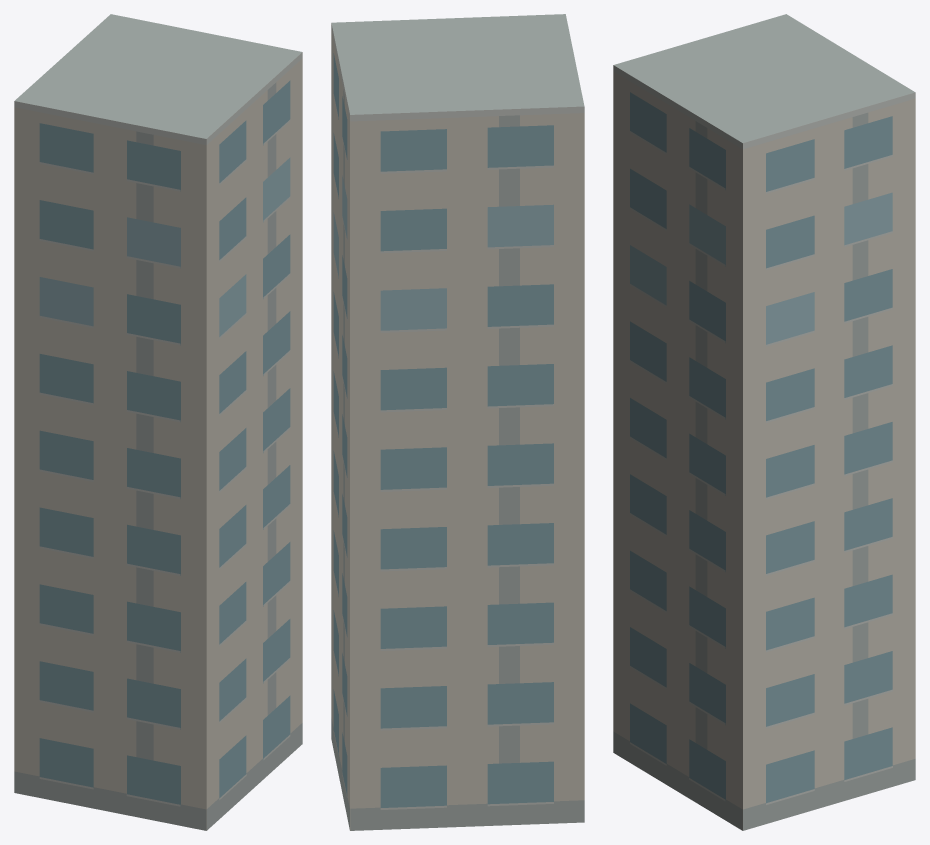
File: residential-6ef291aa-6746-4e20-9062-95c724d54aca.glb
The picture shows the model from 3 angles, left to right: view 1: azimuth 30°, elevation 25°; view 2: azimuth 150°, elevation 25°; view 3: azimuth 270°, elevation 25°; orthographic projection. The views are drawn at different scales.
Parts seen in each view (by area): view 1: residential-6ef291aa-6746-4e20-9062-95c724d54aca.tmp; view 2: residential-6ef291aa-6746-4e20-9062-95c724d54aca.tmp; view 3: residential-6ef291aa-6746-4e20-9062-95c724d54aca.tmp.
Part boxes in pixels (bbox=[...]): residential-6ef291aa-6746-4e20-9062-95c724d54aca.tmp: bbox=[14, 14, 302, 830]; residential-6ef291aa-6746-4e20-9062-95c724d54aca.tmp: bbox=[331, 14, 584, 830]; residential-6ef291aa-6746-4e20-9062-95c724d54aca.tmp: bbox=[613, 14, 915, 830].
Bounding box in the file's own units: 10.89 × 27 × 10.76.
